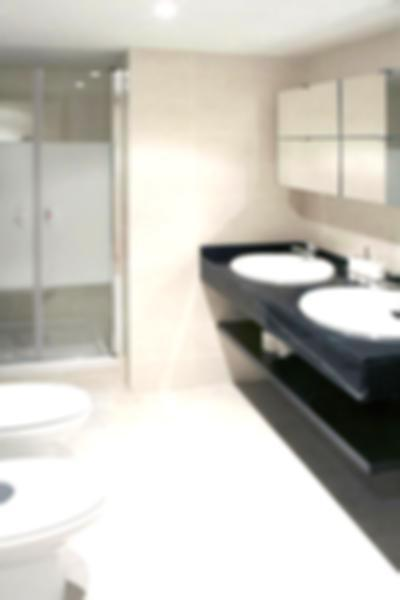Ducha: (3, 70, 117, 366)
Lavamanos: (303, 264, 399, 343), (225, 237, 338, 289)
Sanitario: (2, 456, 107, 598), (2, 382, 92, 459)
